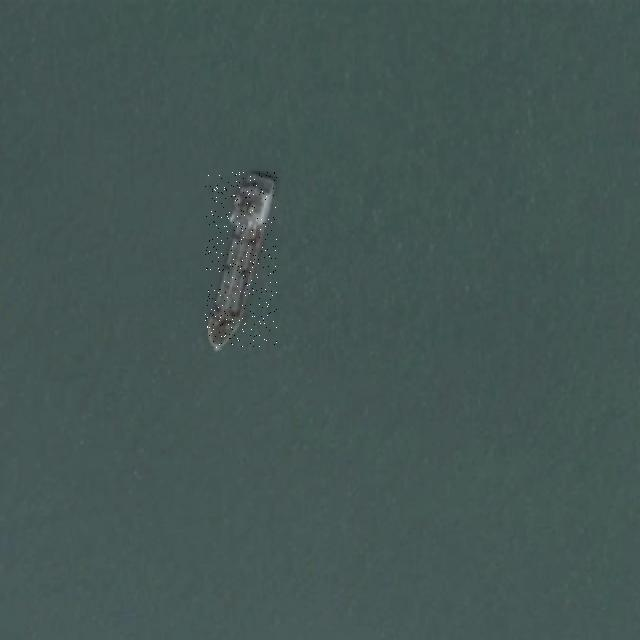boat: (205, 172, 277, 350)
